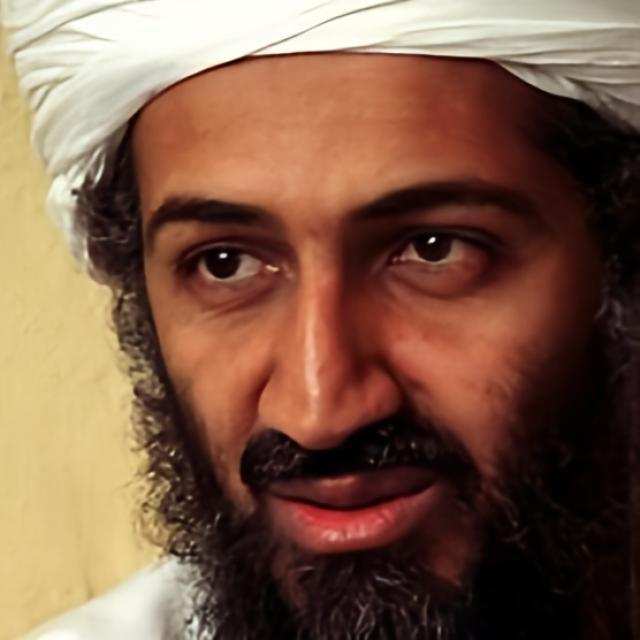disgust: (127, 53, 640, 640)
